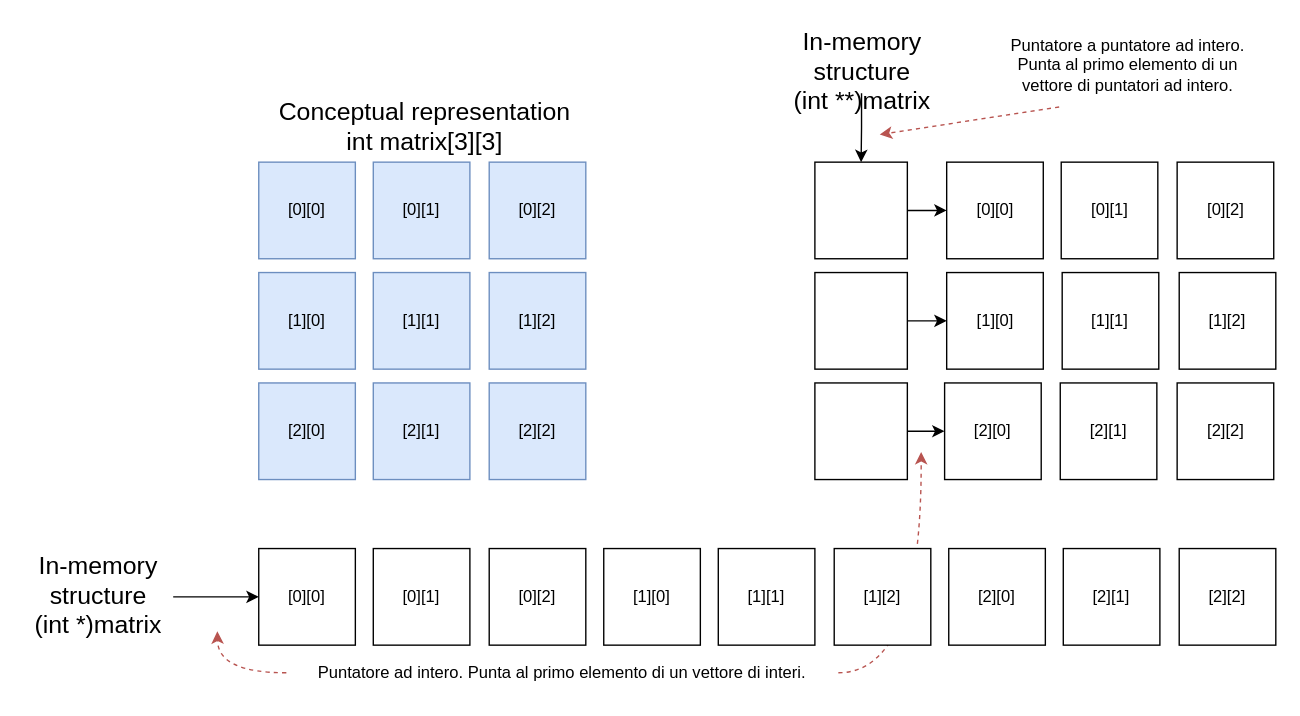
The diagram is 1300 pixels wide and 716 high, and some of its shapes have lost their labels. The shapes that lost their labels are listed below. From the top down, each one's centre as x and y in pixels, then its label:
(860,210): int *row_0
(860,320): int *row_1
(860,431): int *row_2
